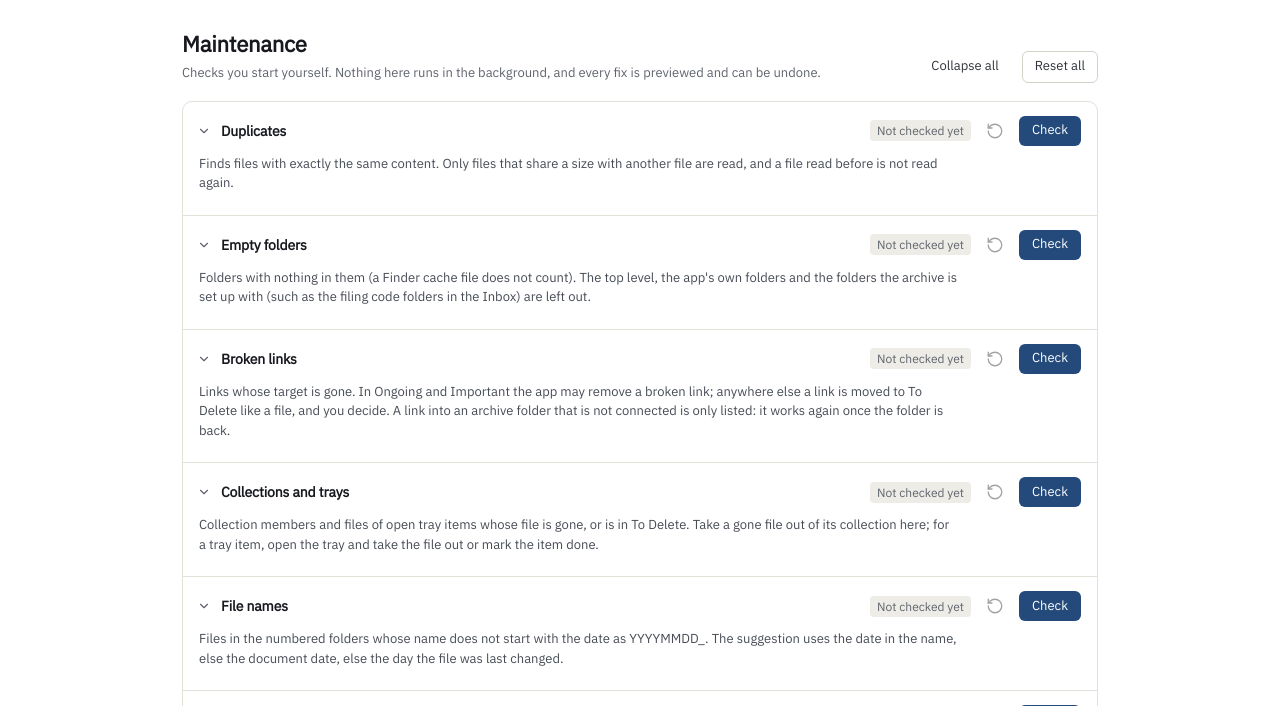
Test case: Maintenance › has Collapse all and Reset all as text buttons, and a longer subtitle
The image size is (1280, 706).
Expected: the button "Reset all" is shown, [1022,51,1098,83]
Expected: the text "every fix is previewed and can be undone" is shown, [182,64,821,81]
Click the button "Collapse all": (965, 67) [918,51,1012,83]
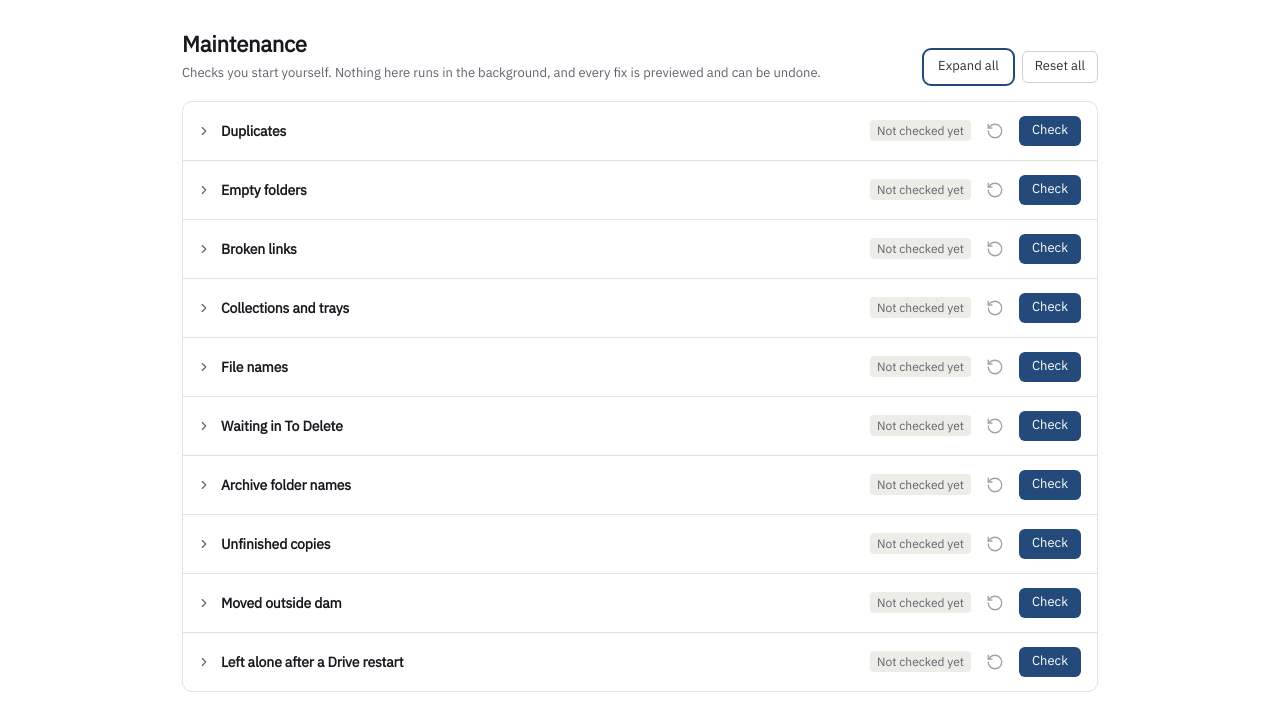
Expected: the button "Expand all" is shown, [925,51,1012,83]
